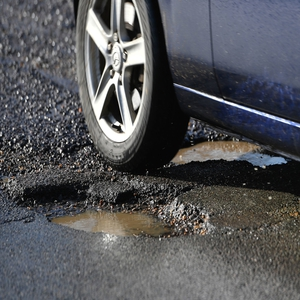pothole: (33, 180, 214, 242), (169, 133, 288, 173)
